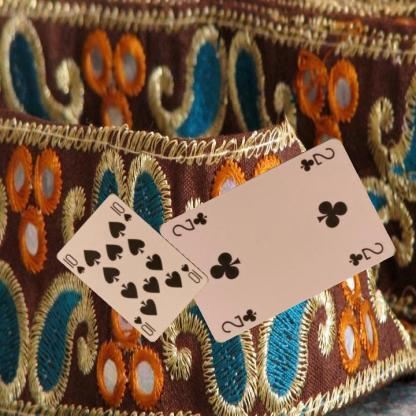10s: (62, 251, 87, 276), (178, 261, 204, 285)
2c: (218, 306, 258, 335), (298, 144, 336, 173)
